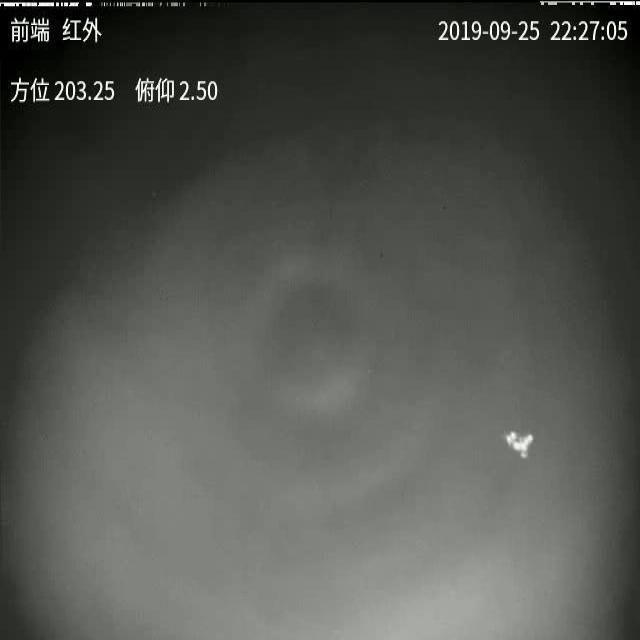drone: (504, 428, 536, 461)
